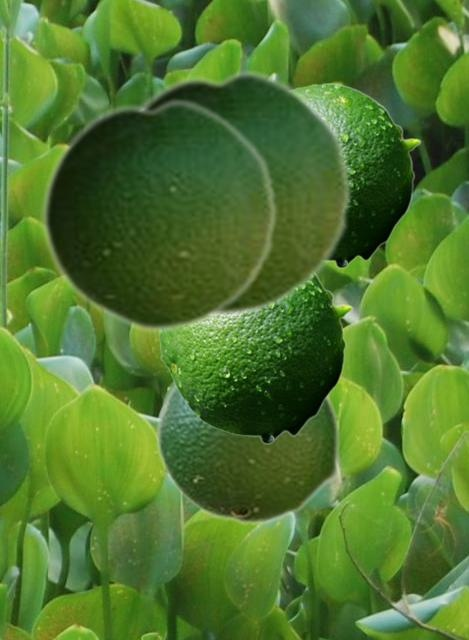dalandan: (40, 95, 277, 334), (139, 66, 352, 319), (158, 277, 352, 444), (155, 381, 340, 525), (294, 82, 420, 268)
